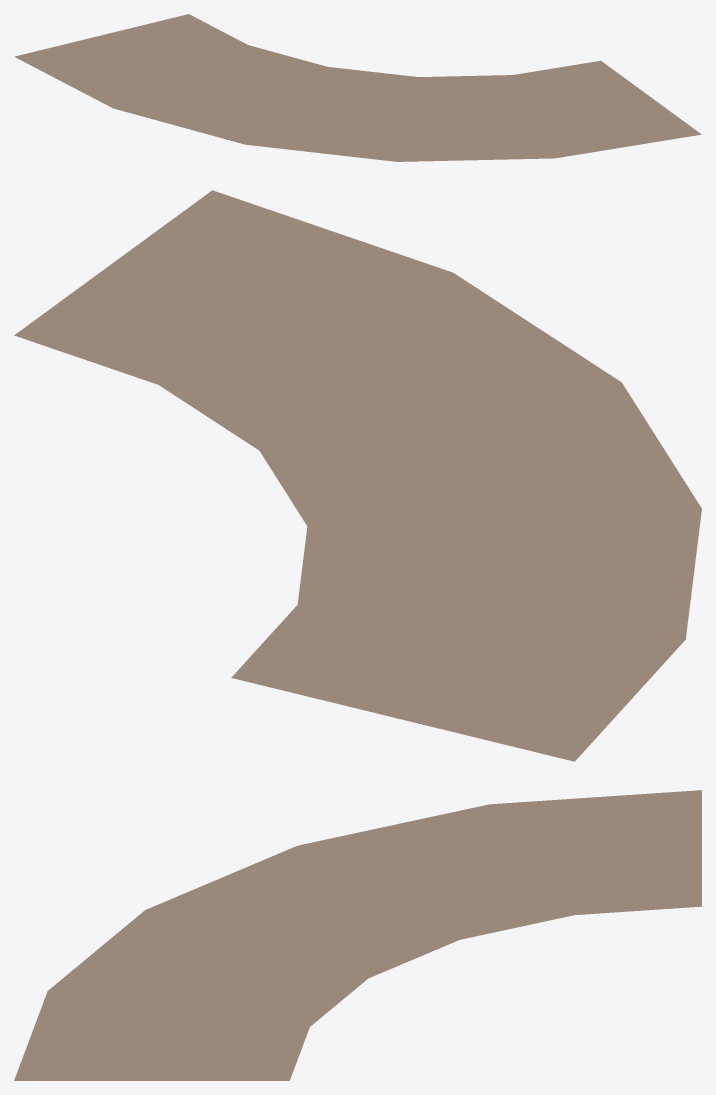
The model's file is Walkway_Corner_Collision.fbx.
3 renders of one model, top to bottom at view 1: azimuth 30°, elevation 25°; view 2: azimuth 150°, elevation 25°; view 3: azimuth 270°, elevation 25°, orthographic. The views are drawn at different scales.
Parts seen in each view (by area): view 1: Walkway_Corner_Collision; view 2: Walkway_Corner_Collision; view 3: Walkway_Corner_Collision.
Boxes of the visible parts, x1,y1,x2,y2 form: Walkway_Corner_Collision: (14,14,701,161); Walkway_Corner_Collision: (14,190,701,761); Walkway_Corner_Collision: (14,790,701,1080).
Size of the model in its own units: 9.61 by 3.87e-08 by 9.61.
